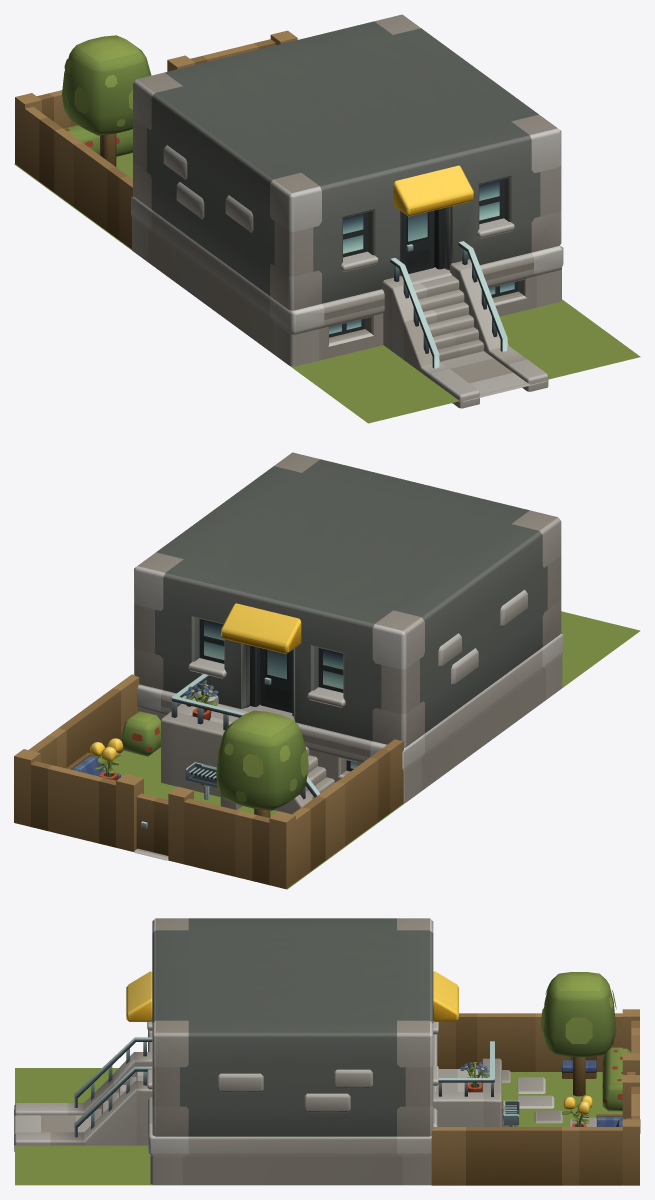
File: appartment_type1_x4_ground_grey.fbx
The picture shows the model from 3 angles, top to bottom: view 1: azimuth 30°, elevation 25°; view 2: azimuth 150°, elevation 25°; view 3: azimuth 270°, elevation 25°; orthographic projection. The views are drawn at different scales.
Visible parts, largest first — view 1: appartment_type1_x4_ground_grey, door_front_appartment_type1_x4_ground; view 2: appartment_type1_x4_ground_grey, door_back_appartment_type1_x4_ground, door_garden_appartment_type1_x4_ground; view 3: appartment_type1_x4_ground_grey.
Boxes of the visible parts, bbox=[...] form: appartment_type1_x4_ground_grey: bbox=[14, 14, 640, 423]; door_front_appartment_type1_x4_ground: bbox=[402, 210, 434, 273]; appartment_type1_x4_ground_grey: bbox=[14, 452, 640, 889]; door_back_appartment_type1_x4_ground: bbox=[260, 648, 292, 712]; door_garden_appartment_type1_x4_ground: bbox=[136, 793, 168, 855]; appartment_type1_x4_ground_grey: bbox=[14, 918, 640, 1185].
Size of the model in its own units: 819 by 501 by 1806.
